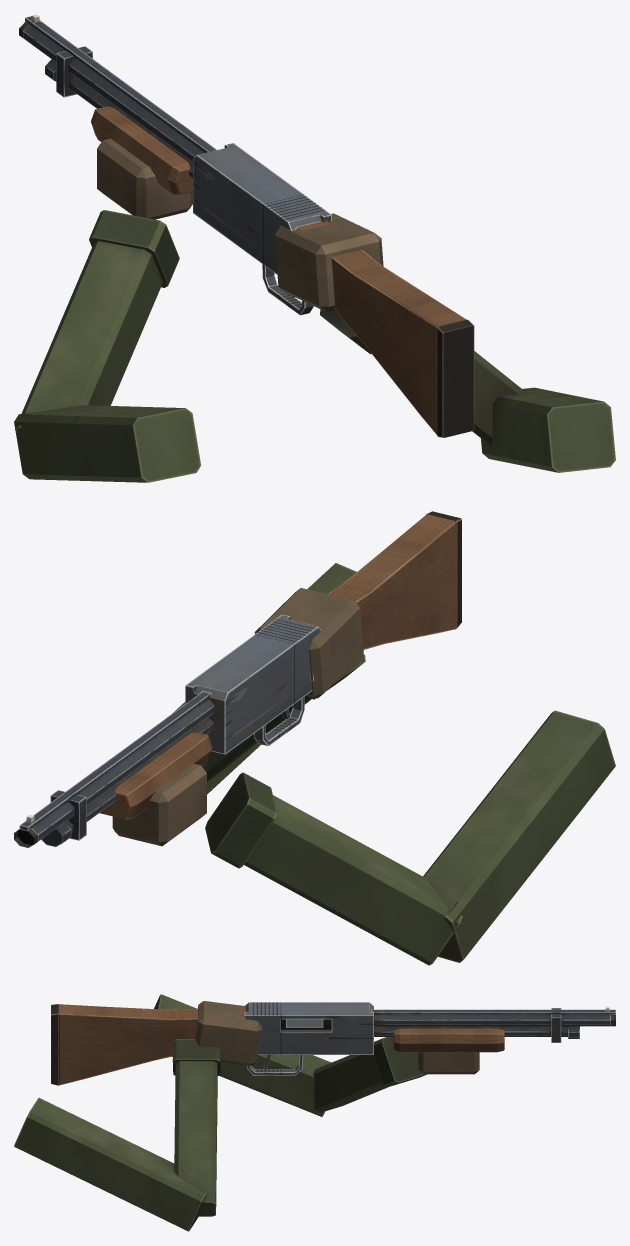
File: Escopeta_VM.glb
3 views of the same model, one above another, from view 1: azimuth 30°, elevation 25°; view 2: azimuth 150°, elevation 25°; view 3: azimuth 270°, elevation 25° (orthographic). The views are drawn at different scales.
Visible parts, largest first — view 1: Cuerpo_VM.001, LeftLowerArm.001, LeftUpperArm.001, RightUpperArm.001, RightHand.001, LeftHand.001, Bomba_VM.001, RightLowerArm.001; view 2: Cuerpo_VM.001, LeftUpperArm.001, LeftLowerArm.001, RightHand.001, LeftHand.001, Bomba_VM.001, RightLowerArm.001, RightUpperArm.001; view 3: Cuerpo_VM.001, RightUpperArm.001, RightLowerArm.001, LeftLowerArm.001, LeftUpperArm.001, RightHand.001, Bomba_VM.001, LeftHand.001, Cerrojo_VM.001.
Part boxes in pixels (left/top/right/bottom): Cuerpo_VM.001: left=19, top=14, right=474, bottom=437; LeftLowerArm.001: left=15, top=210, right=179, bottom=433; LeftUpperArm.001: left=14, top=405, right=200, bottom=482; RightUpperArm.001: left=480, top=387, right=615, bottom=472; RightHand.001: left=274, top=213, right=383, bottom=311; LeftHand.001: left=97, top=138, right=192, bottom=219; Bomba_VM.001: left=91, top=106, right=192, bottom=194; RightLowerArm.001: left=320, top=309, right=525, bottom=444; Cuerpo_VM.001: left=14, top=511, right=461, bottom=847; LeftUpperArm.001: left=423, top=710, right=615, bottom=962; LeftLowerArm.001: left=205, top=772, right=462, bottom=965; RightHand.001: left=254, top=588, right=363, bottom=698; LeftHand.001: left=112, top=763, right=206, bottom=846; Bomba_VM.001: left=99, top=732, right=212, bottom=819; RightLowerArm.001: left=203, top=654, right=365, bottom=781; RightUpperArm.001: left=172, top=563, right=363, bottom=794; Cuerpo_VM.001: left=51, top=1002, right=615, bottom=1085; RightUpperArm.001: left=14, top=1097, right=206, bottom=1231; RightLowerArm.001: left=172, top=1039, right=220, bottom=1216; LeftLowerArm.001: left=313, top=1037, right=426, bottom=1112; LeftUpperArm.001: left=154, top=994, right=331, bottom=1116; RightHand.001: left=195, top=1001, right=261, bottom=1065; Bomba_VM.001: left=393, top=1028, right=504, bottom=1052; LeftHand.001: left=418, top=1052, right=479, bottom=1074; Cerrojo_VM.001: left=286, top=1019, right=323, bottom=1027.
Bounding box in the file's own units: 2.41 × 1.31 × 4.32.
2 materials, 2 textured.
